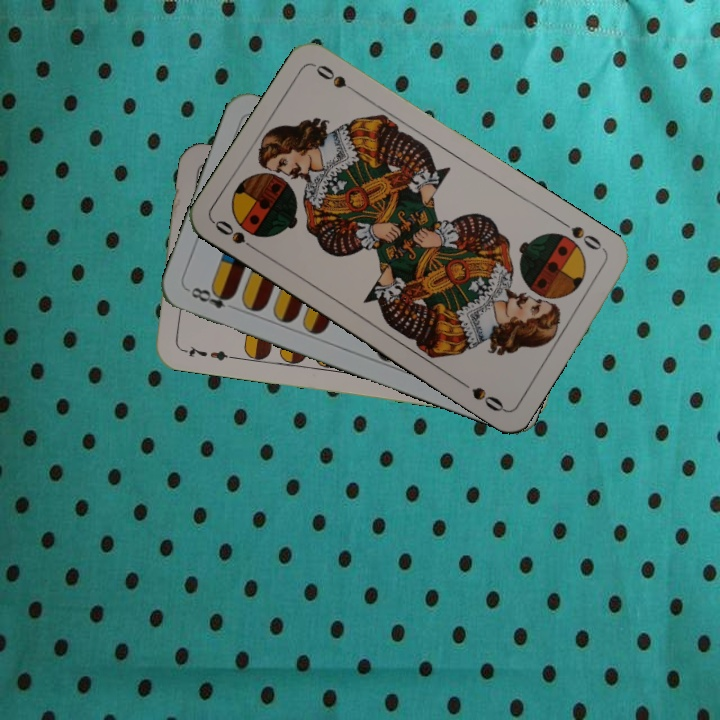E7: (177, 342, 236, 363)
E8: (184, 283, 236, 312)
SO: (210, 215, 263, 256), (556, 216, 608, 255)
